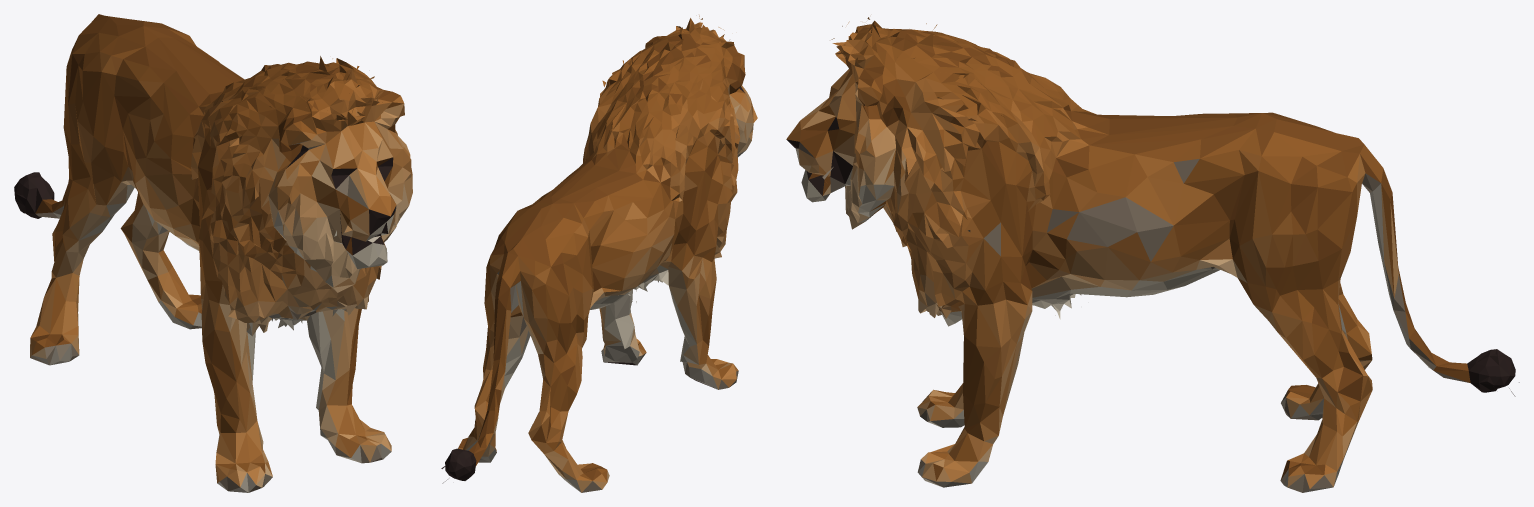
Rendered from panthera_leo.glb.
3 views of the same model, side by side, from view 1: azimuth 30°, elevation 25°; view 2: azimuth 150°, elevation 25°; view 3: azimuth 270°, elevation 25° (orthographic). The views are drawn at different scales.
Parts seen in each view (by area): view 1: lod0; view 2: lod0; view 3: lod0.
Part boxes in pixels (<box>): lod0: <box>14,14,412,492</box>; lod0: <box>441,15,757,492</box>; lod0: <box>786,17,1519,492</box>.
Size of what is drawn, in the model's own units: 0.5034 by 1.07 by 1.66.
